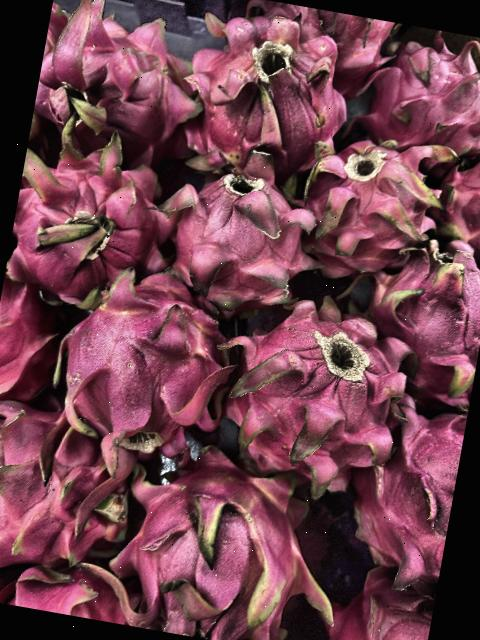buah-naga-matang: (103, 430, 352, 640), (208, 274, 403, 488), (51, 261, 237, 457), (169, 0, 363, 175), (4, 126, 179, 306), (0, 390, 157, 588), (30, 0, 217, 161), (154, 144, 325, 319), (338, 372, 472, 584), (286, 113, 444, 275), (361, 230, 480, 392), (363, 27, 480, 165), (308, 549, 439, 640), (427, 143, 480, 253)
